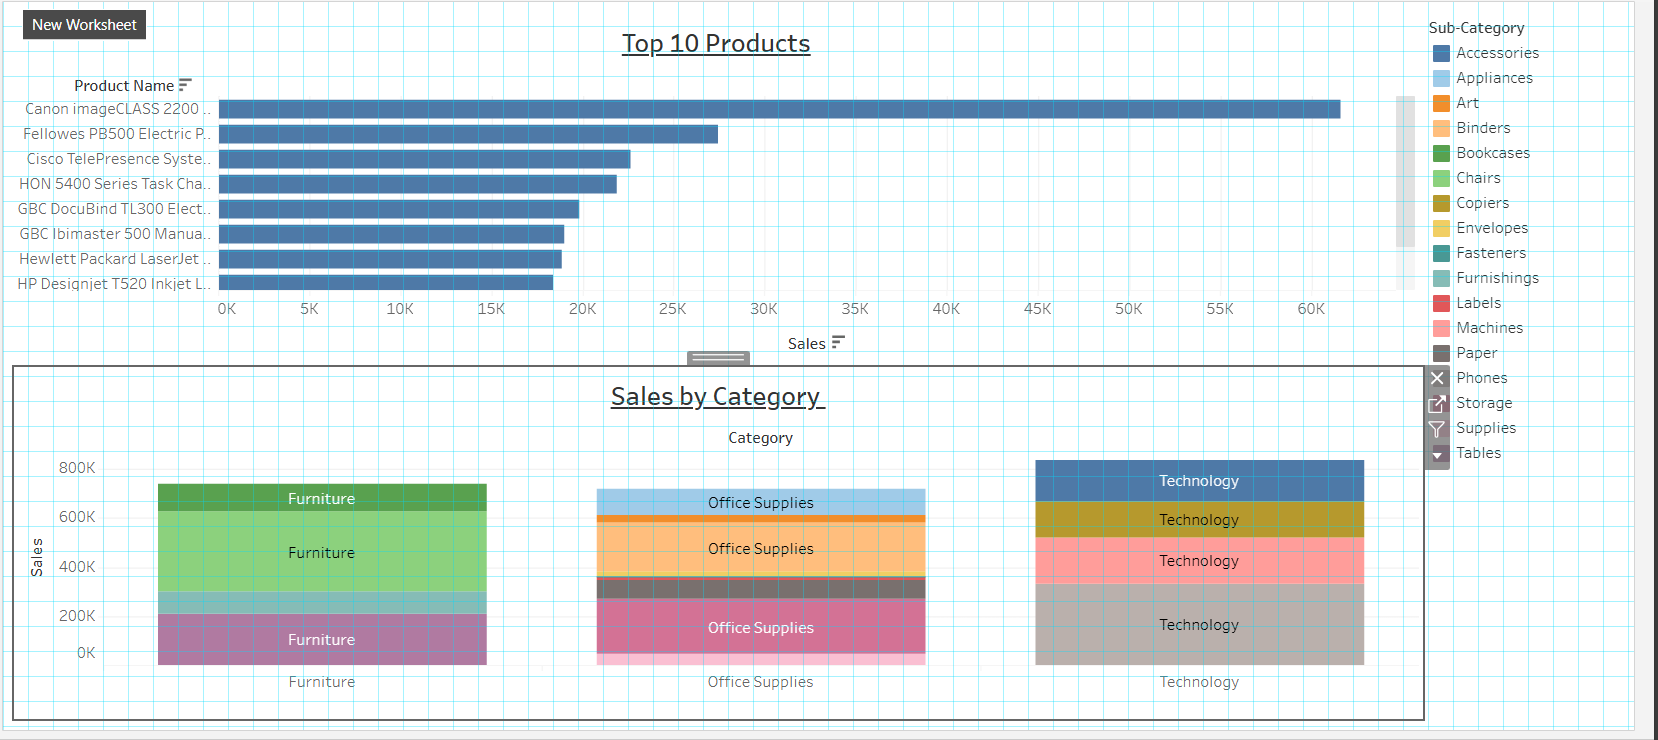

What the dashboard file says about the page in this screenshot:
{"tool":"tableau","page":{"name":"Dashboard 2","canvas":[1000,1000],"units":"permille","ordinal":1},"visuals":[{"type":"worksheet","title":"Sheet 5","mark":"Automatic","rows":["Region"],"cols":["Sales"],"box":[6.1,13.8,987.7,486.2]},{"type":"worksheet","title":"Sheet 4","mark":"Automatic","rows":["Sales"],"cols":["Order Date"],"box":[6.1,500,987.7,486.2]}]}

Visuals, with their boxes on the dashboard's canvas, which has no fixed pixel size, in thousandths of its width and height (x1, y1, x2, y2). These are canvas units, not pixel positions in the 1658x740 screenshot, which may show the page scaled, cropped or inside an application window:
"Sheet 5" worksheet: [6,14,994,500]
"Sheet 4" worksheet: [6,500,994,986]
